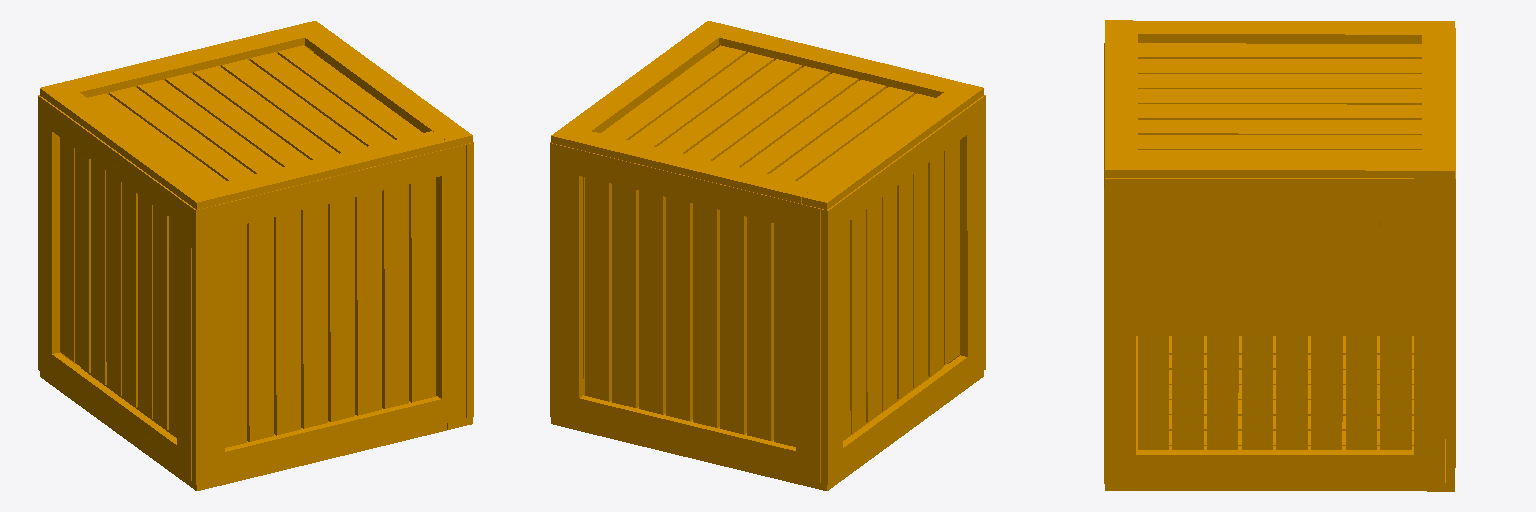
The robot description file, URDF, robot "none":
<robot name="none">
       <link name="none">
           <visual>
               <origin rpy="1.57 0 0" xyz="0 0 0" />
               <geometry>
                   <mesh filename="crate.obj" />
               </geometry>
           </visual>
          <collision>
              <geometry>
                  <box size="0.300000 0.296924 0.294506" />
              </geometry>
          </collision>

          <inertial>
            <mass value="0.0" />
            <inertia ixx="0.0" ixy="0.0" ixz="0.0" iyy="0.0" iyz="0.0" izz="0.0" />
          </inertial>
      </link>
  </robot>

--- What the picture shows (computed from the rendered views, not written in the file) ---
3 views of the same robot in one strip: view 1: azimuth 30°, elevation 25°; view 2: azimuth 150°, elevation 25°; view 3: azimuth 270°, elevation 25° (orthographic).
Robot: none — 1 links, 0 joints (none); root link none; default pose: every joint at zero.
Links seen in each view (by area): view 1: none; view 2: none; view 3: none.
Link boxes in pixels (x1,y1,x2,y2): none: [38, 21, 473, 490]; none: [550, 21, 985, 490]; none: [1104, 20, 1455, 491].
Size in the robot's own frame: 0.3 by 0.2947 by 0.2972 metres.
1 mesh visuals loaded from 1 distinct referenced files (1 OBJ).